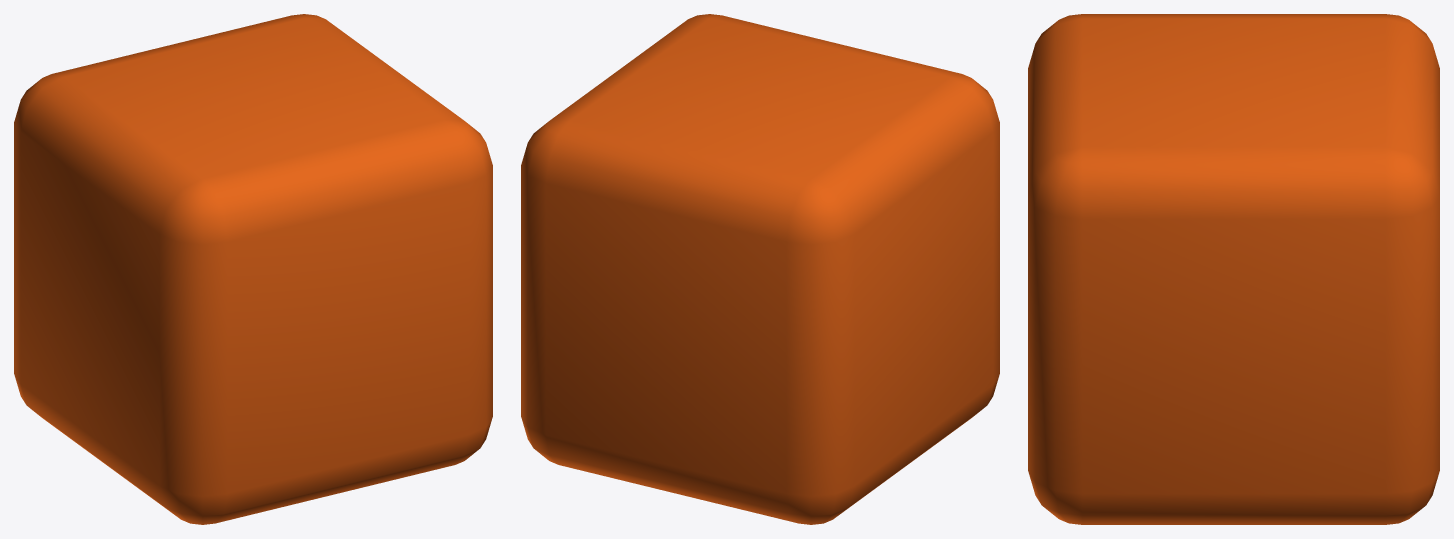
Rendered from Detail.fbx.
The picture shows the model from 3 angles, left to right: view 1: azimuth 30°, elevation 25°; view 2: azimuth 150°, elevation 25°; view 3: azimuth 270°, elevation 25°; orthographic projection. The views are drawn at different scales.
Parts seen in each view (by area): view 1: ChamferBox002; view 2: ChamferBox002; view 3: ChamferBox002.
Boxes of the visible parts, x1,y1,x2,y2 form: ChamferBox002: (14, 14, 492, 524); ChamferBox002: (521, 14, 999, 524); ChamferBox002: (1028, 14, 1439, 524).
Bounding box in the file's own units: 100 × 100 × 100.
